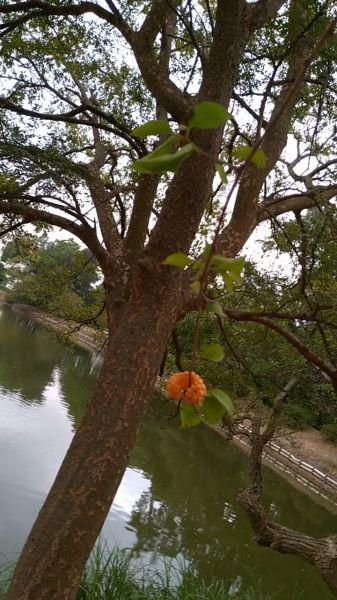eggs: (162, 359, 211, 411)
